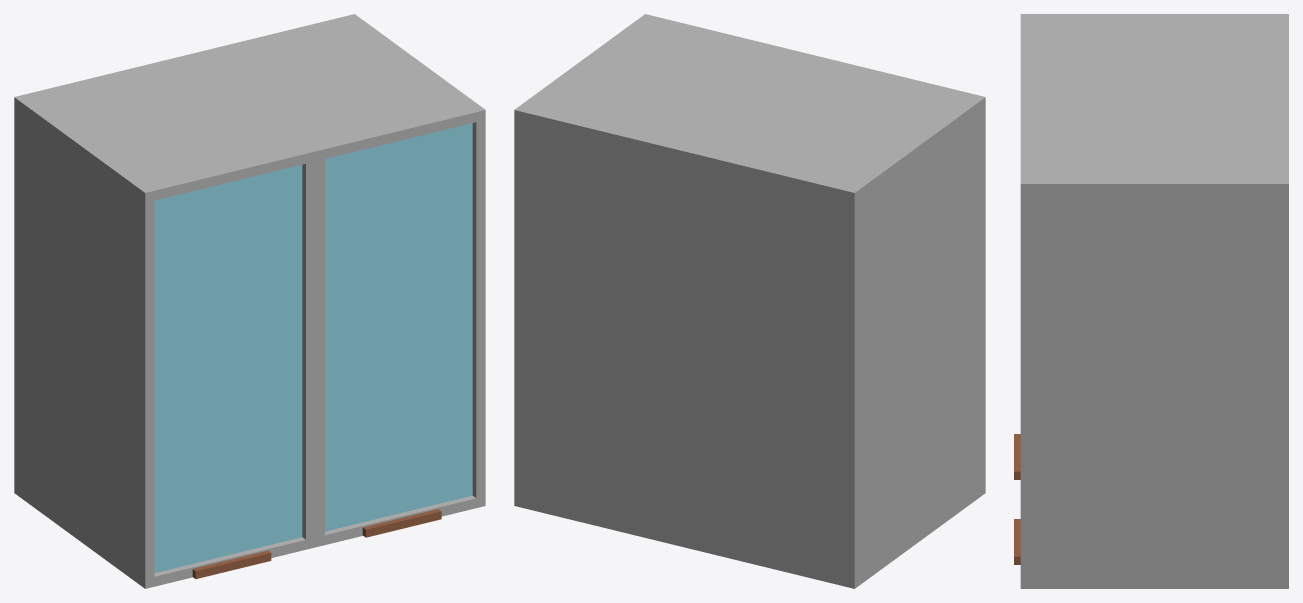
File: Armario.fbx
3 views of the same model, side by side, from view 1: azimuth 30°, elevation 25°; view 2: azimuth 150°, elevation 25°; view 3: azimuth 270°, elevation 25° (orthographic). The views are drawn at different scales.
Visible parts, largest first — view 1: Armario; view 2: Armario; view 3: Armario.
Part boxes in pixels (<box>): Armario: <box>14,14,485,588</box>; Armario: <box>514,14,985,588</box>; Armario: <box>1014,14,1288,588</box>.
Size of the model in its own units: 180 by 200 by 123.
